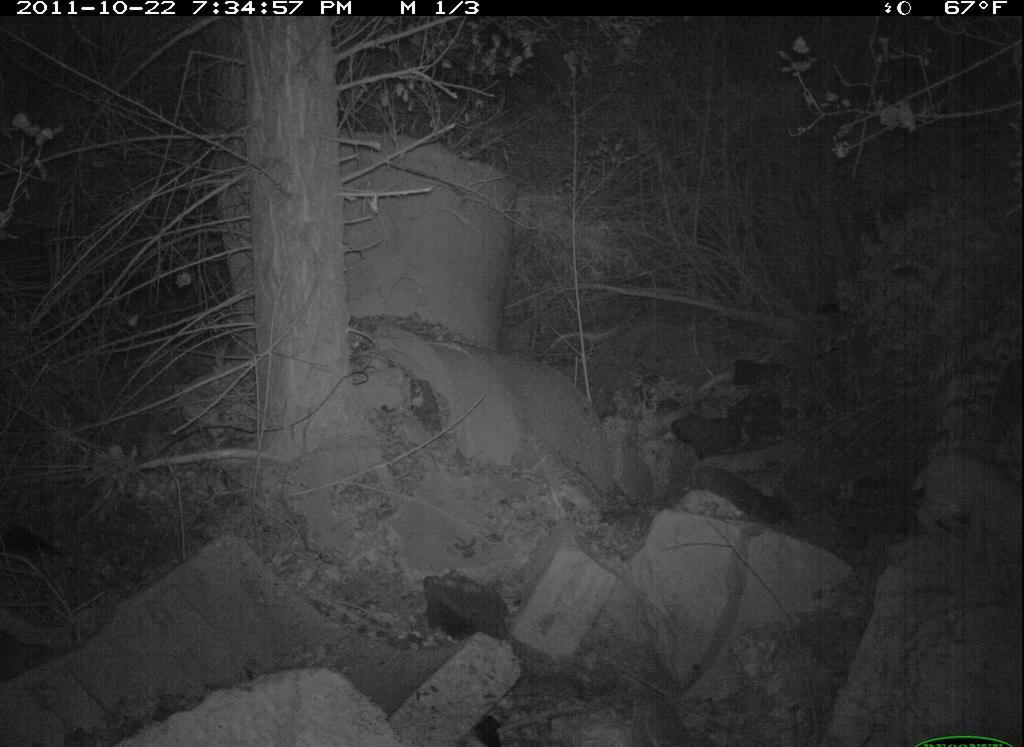bobcat: (882, 425, 1023, 570)
